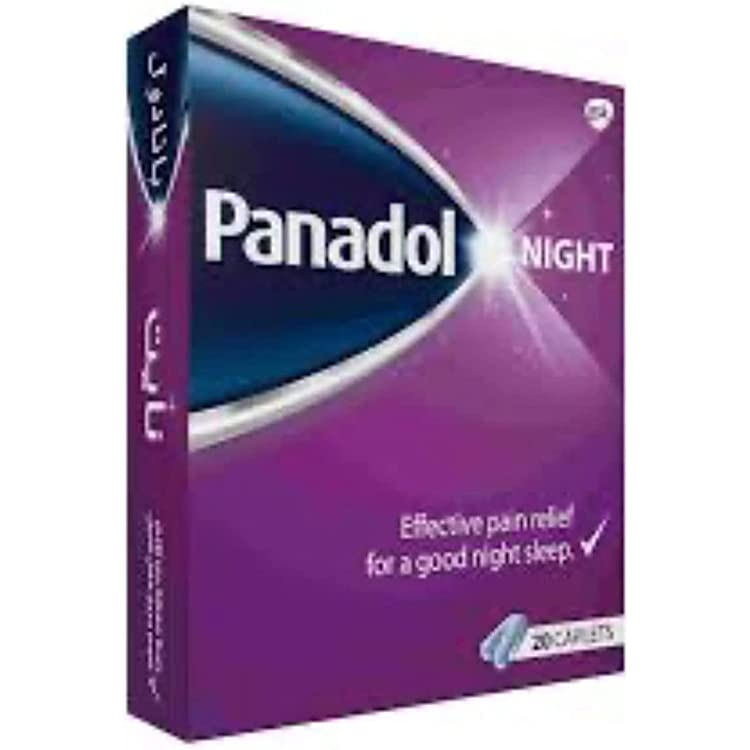Medicine: (92, 4, 644, 740)
